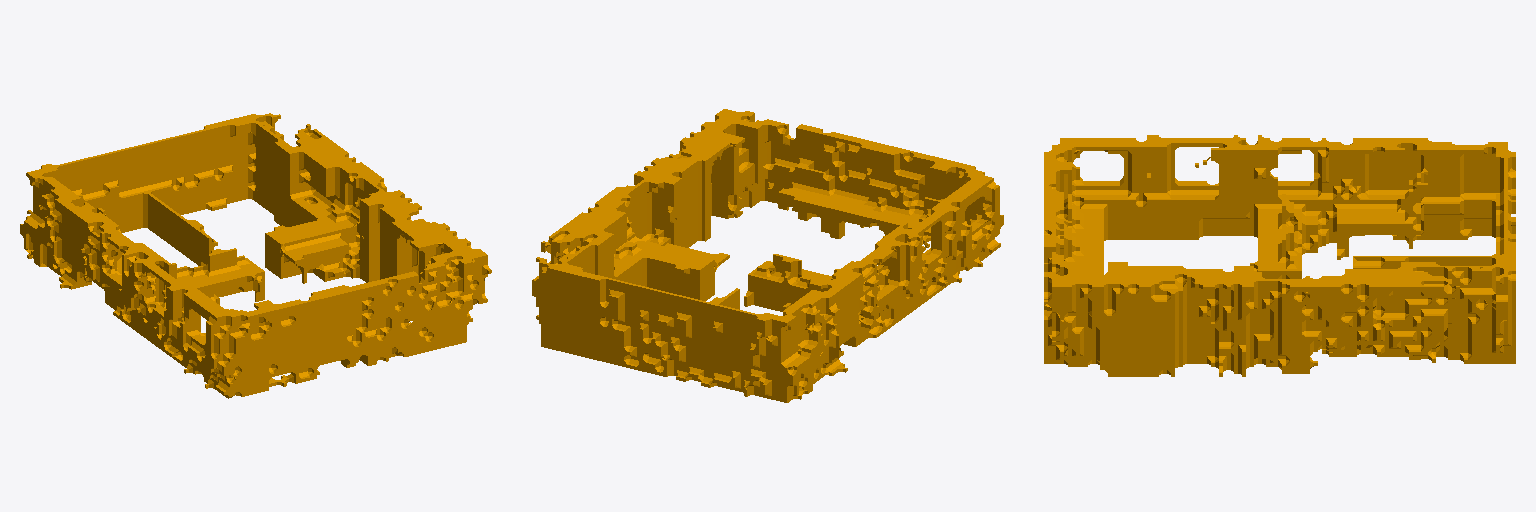
robot.urdf — map:
<robot name="map">
  <link name="map">
  
    <inertial>
      <mass value="0.350000" />
      <origin xyz="0.0 0.0 0.0"/>
      <inertia ixx="0.000469" ixy="0.000000" ixz="0.000000" iyy="0.000469" iyz="0.000000" izz="0.000197" />
    </inertial>
    
    <visual>
      <geometry>
        <mesh filename="package://tidyup_demo_launch/simulation/map.dae" />
      </geometry>
    </visual>
    <collision>
      <geometry>
        <mesh filename="package://tidyup_demo_launch/simulation/map.dae" />
      </geometry>
    </collision>
  </link>
  <gazebo>
    <static>true</static>
    <material>Gazebo/Wood</material>
  </gazebo>
</robot>

--- Render facts (derived) ---
Views: 3 orthographic renders of the robot side by side, from view 1: azimuth 30°, elevation 25°; view 2: azimuth 150°, elevation 25°; view 3: azimuth 270°, elevation 25°.
Model map with 1 links and 0 joints (none), rooted at map, posed all joints at 0.
Links seen in each view (by area): view 1: map; view 2: map; view 3: map.
Link boxes in pixels (x1=…): map: x1=20, y1=113, x2=491, y2=398; map: x1=532, y1=109, x2=1003, y2=402; map: x1=1044, y1=135, x2=1515, y2=376.
Size in the robot's own frame: 7.28 by 9.52 by 2 metres.
Meshes: 1 distinct files referenced, 1 mesh visuals loaded (1 Collada DAE).